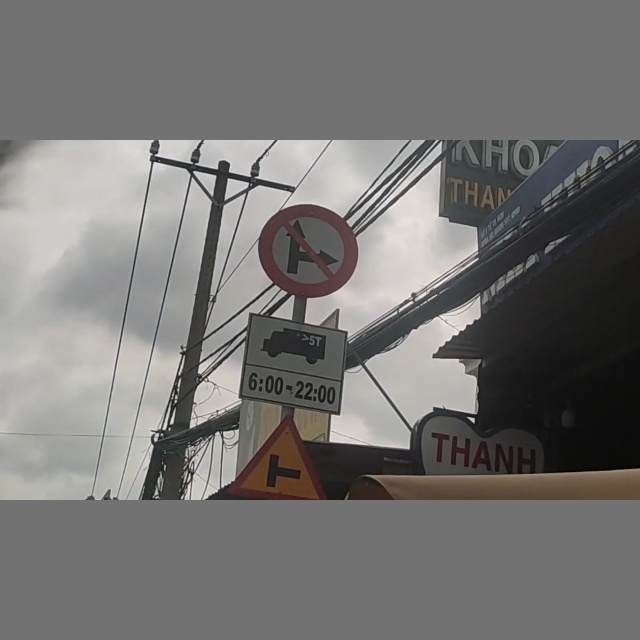P.139: (261, 204, 355, 295)
S.505a*Xe tai: (242, 315, 345, 406)
W.205b: (229, 413, 321, 500)
